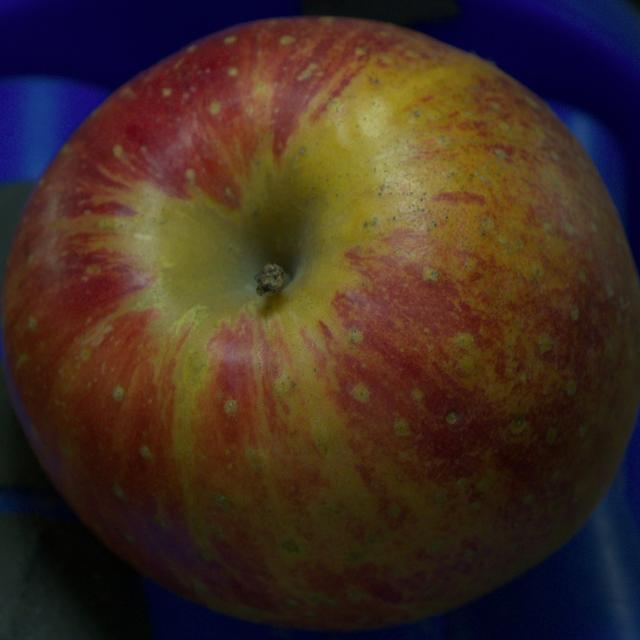apple: (2, 18, 639, 630)
